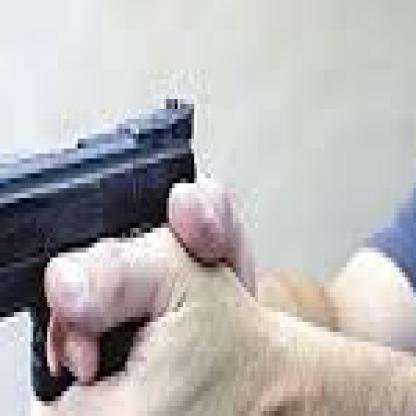gun: (0, 99, 214, 411)
